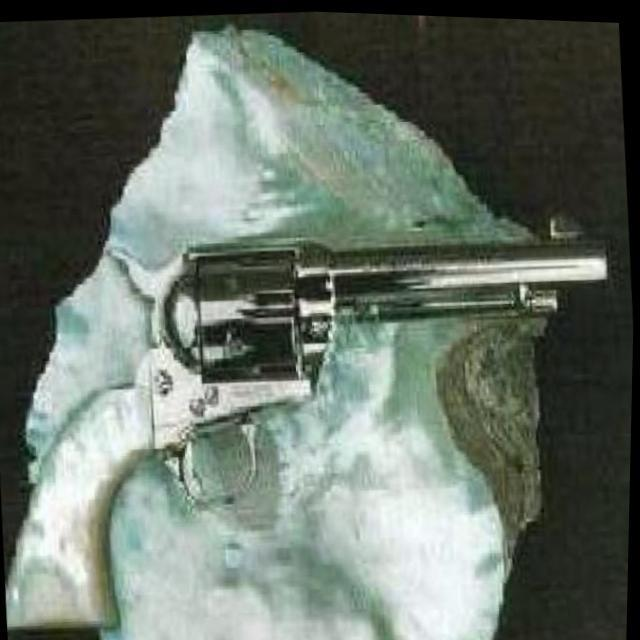weapon: (0, 186, 637, 640)
